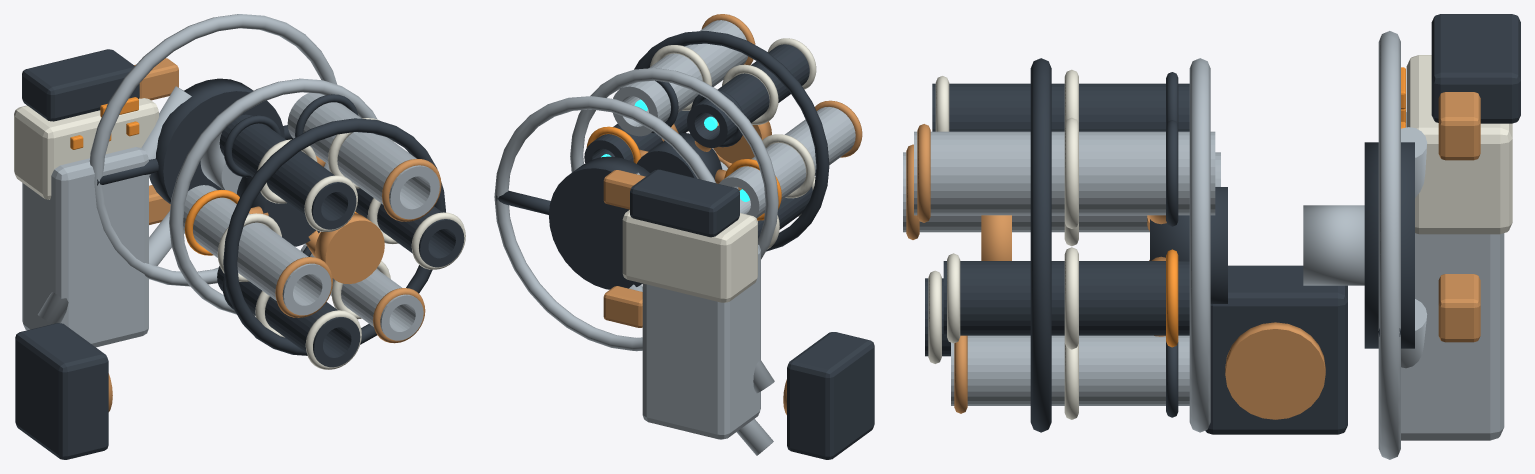
The model's file is M01-019_six_tube_smoke_launcher.glb.
3 renders of one model, left to right at view 1: azimuth 30°, elevation 25°; view 2: azimuth 150°, elevation 25°; view 3: azimuth 270°, elevation 25°, orthographic. The views are drawn at different scales.
Parts seen in each view (by area): view 1: M01-019_Receiver_spine, M01-019_Side_mount_foot, M01-019_Fixed_guard_hoop, M01-019_Open_bore_03, M01-019_Open_bore_01, M01-019_Drum_Front_retainer, M01-019_Ceramic_receiver_shield, M01-019_Open_bore_02, M01-019_Receiver_upper, M01-019_Drum_Rear_retainer, M01-019_Bearing_rear_plate, M01-019_Open_bore_04 (+23 smaller); view 2: M01-019_Receiver_spine, M01-019_Side_mount_foot, M01-019_Ceramic_receiver_shield, M01-019_Bearing_rear_plate, M01-019_Fixed_guard_hoop, M01-019_Receiver_upper, M01-019_Drum_Rear_retainer, M01-019_Drum_Front_retainer, M01-019_Open_bore_03, M01-019_Open_bore_01, M01-019_Open_bore_02, M01-019_Drum_hub (+18 smaller); view 3: M01-019_Open_bore_01, M01-019_Receiver_spine, M01-019_Side_mount_foot, M01-019_Open_bore_00, M01-019_Open_bore_05, M01-019_Ceramic_receiver_shield, M01-019_Open_bore_02, M01-019_Fixed_guard_hoop, M01-019_Receiver_upper, M01-019_Drum_Front_retainer, M01-019_Drum_Rear_retainer, M01-019_Mount_lock (+23 smaller).
Part boxes in pixels (x1=…): M01-019_Receiver_spine: x1=22, y1=147, x2=148, y2=347; M01-019_Side_mount_foot: x1=15, y1=323, x2=108, y2=459; M01-019_Fixed_guard_hoop: x1=89, y1=14, x2=337, y2=286; M01-019_Open_bore_03: x1=183, y1=185, x2=331, y2=315; M01-019_Open_bore_01: x1=287, y1=93, x2=439, y2=219; M01-019_Drum_Front_retainer: x1=223, y1=118, x2=445, y2=355; M01-019_Ceramic_receiver_shield: x1=14, y1=98, x2=158, y2=199; M01-019_Open_bore_02: x1=219, y1=114, x2=356, y2=229; M01-019_Receiver_upper: x1=22, y1=49, x2=139, y2=121; M01-019_Drum_Rear_retainer: x1=169, y1=78, x2=377, y2=316; M01-019_Bearing_rear_plate: x1=149, y1=78, x2=284, y2=203; M01-019_Open_bore_04: x1=217, y1=266, x2=360, y2=367; M01-019_Receiver_spine: x1=642, y1=245, x2=760, y2=439; M01-019_Side_mount_foot: x1=787, y1=332, x2=874, y2=459; M01-019_Ceramic_receiver_shield: x1=622, y1=210, x2=757, y2=302; M01-019_Bearing_rear_plate: x1=549, y1=156, x2=650, y2=289; M01-019_Fixed_guard_hoop: x1=494, y1=96, x2=715, y2=351; M01-019_Receiver_upper: x1=630, y1=169, x2=739, y2=237; M01-019_Drum_Rear_retainer: x1=570, y1=68, x2=778, y2=259; M01-019_Drum_Front_retainer: x1=634, y1=31, x2=829, y2=251; M01-019_Open_bore_03: x1=719, y1=107, x2=855, y2=218; M01-019_Open_bore_01: x1=613, y1=20, x2=747, y2=136; M01-019_Open_bore_02: x1=687, y1=44, x2=809, y2=147; M01-019_Drum_hub: x1=637, y1=133, x2=722, y2=179; M01-019_Open_bore_01: x1=914, y1=131, x2=1215, y2=215; M01-019_Receiver_spine: x1=1401, y1=112, x2=1504, y2=440; M01-019_Side_mount_foot: x1=1205, y1=265, x2=1347, y2=434; M01-019_Open_bore_00: x1=943, y1=261, x2=1189, y2=335; M01-019_Open_bore_05: x1=951, y1=335, x2=1189, y2=405; M01-019_Ceramic_receiver_shield: x1=1406, y1=55, x2=1512, y2=234; M01-019_Open_bore_02: x1=932, y1=83, x2=1189, y2=131; M01-019_Fixed_guard_hoop: x1=1378, y1=31, x2=1400, y2=459; M01-019_Receiver_upper: x1=1431, y1=14, x2=1520, y2=123; M01-019_Drum_Front_retainer: x1=1030, y1=58, x2=1051, y2=432; M01-019_Drum_Rear_retainer: x1=1189, y1=58, x2=1210, y2=432; M01-019_Mount_lock: x1=1225, y1=322, x2=1325, y2=419.
Size of the model in its own units: 1.05 by 1.01 by 1.11.
